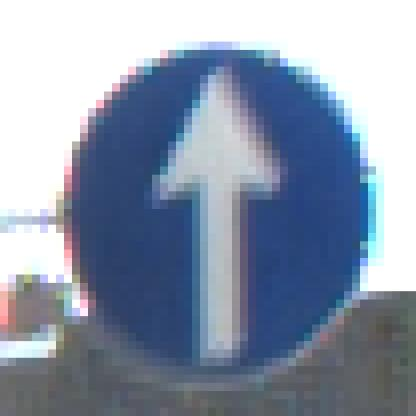AheadOnly: (49, 43, 369, 376)
